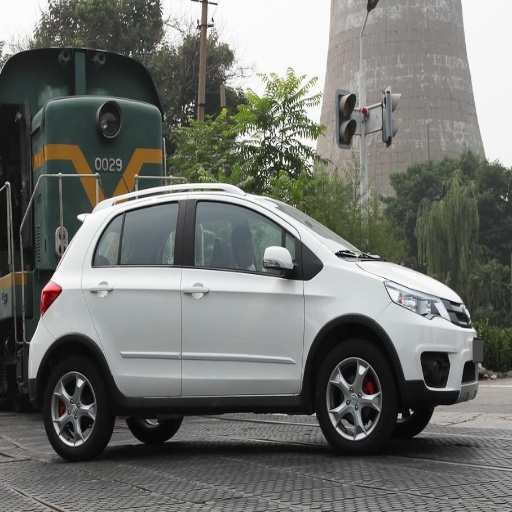back_right_door: (85, 195, 188, 398)
front_right_door: (182, 196, 304, 395)
front_right_light: (386, 284, 471, 327)
